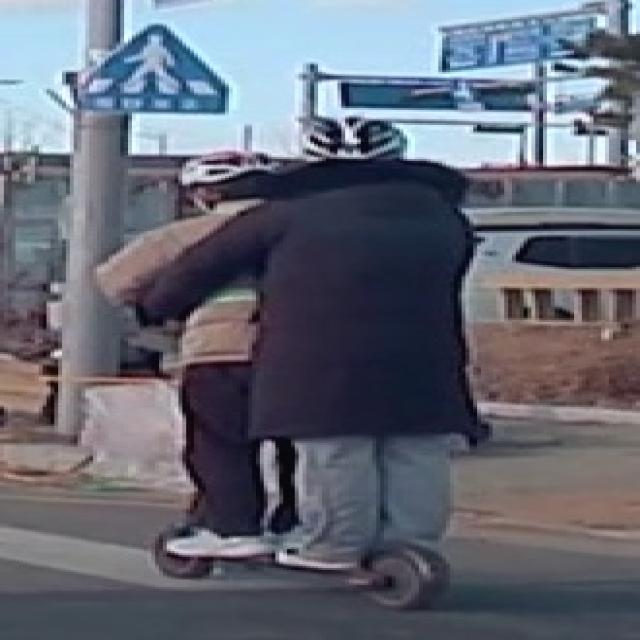with scooter: (92, 115, 492, 611)
